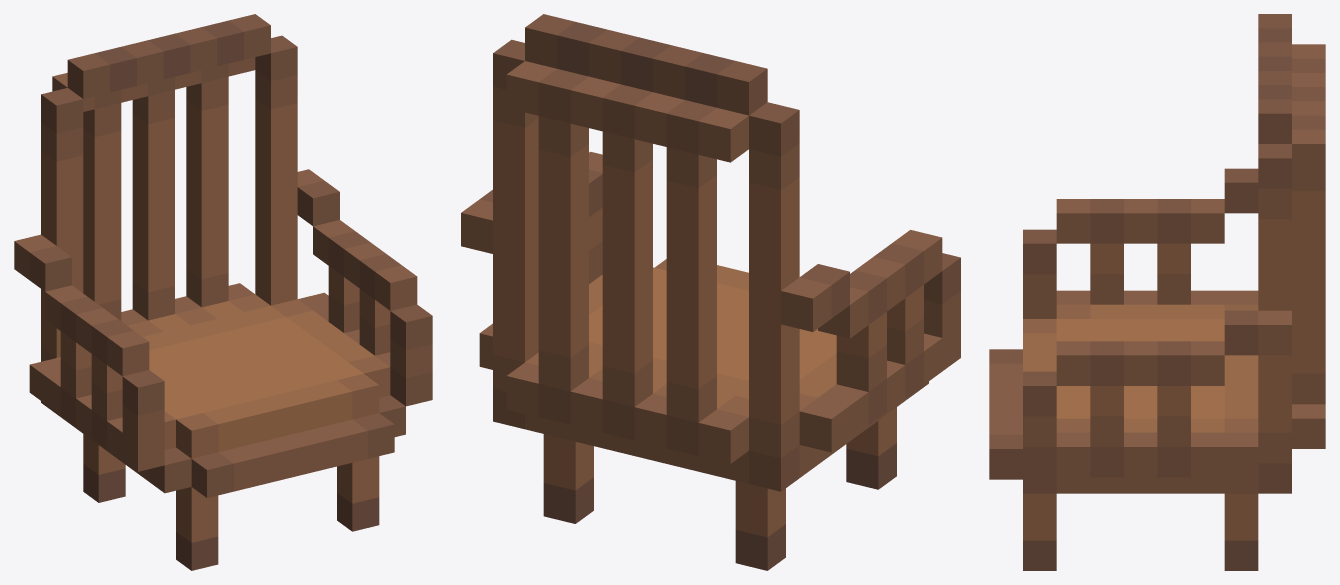
The model's file is Interior_Furniture-57.obj.
The picture shows the model from 3 angles, left to right: view 1: azimuth 30°, elevation 25°; view 2: azimuth 150°, elevation 25°; view 3: azimuth 270°, elevation 25°; orthographic projection. The views are drawn at different scales.
Bounding box in the file's own units: 1.1 × 1.5 × 1.
1 material, 1 textured.
